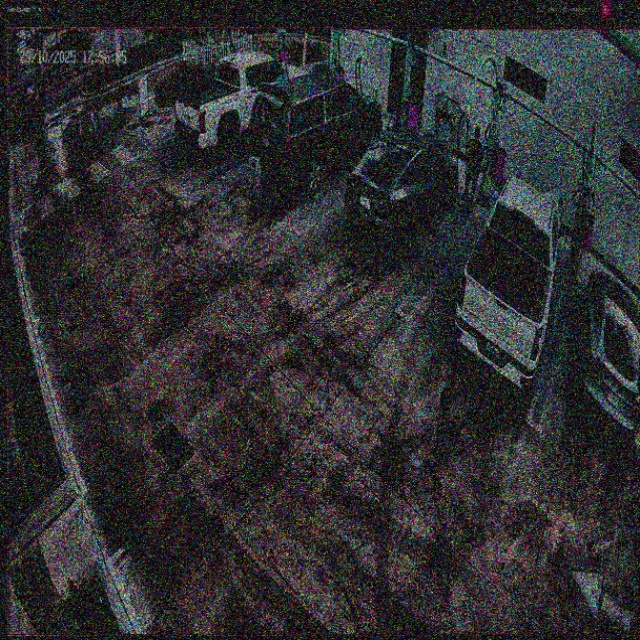Car: (453, 174, 565, 386), (250, 74, 381, 192), (348, 124, 460, 257), (174, 51, 306, 156)
